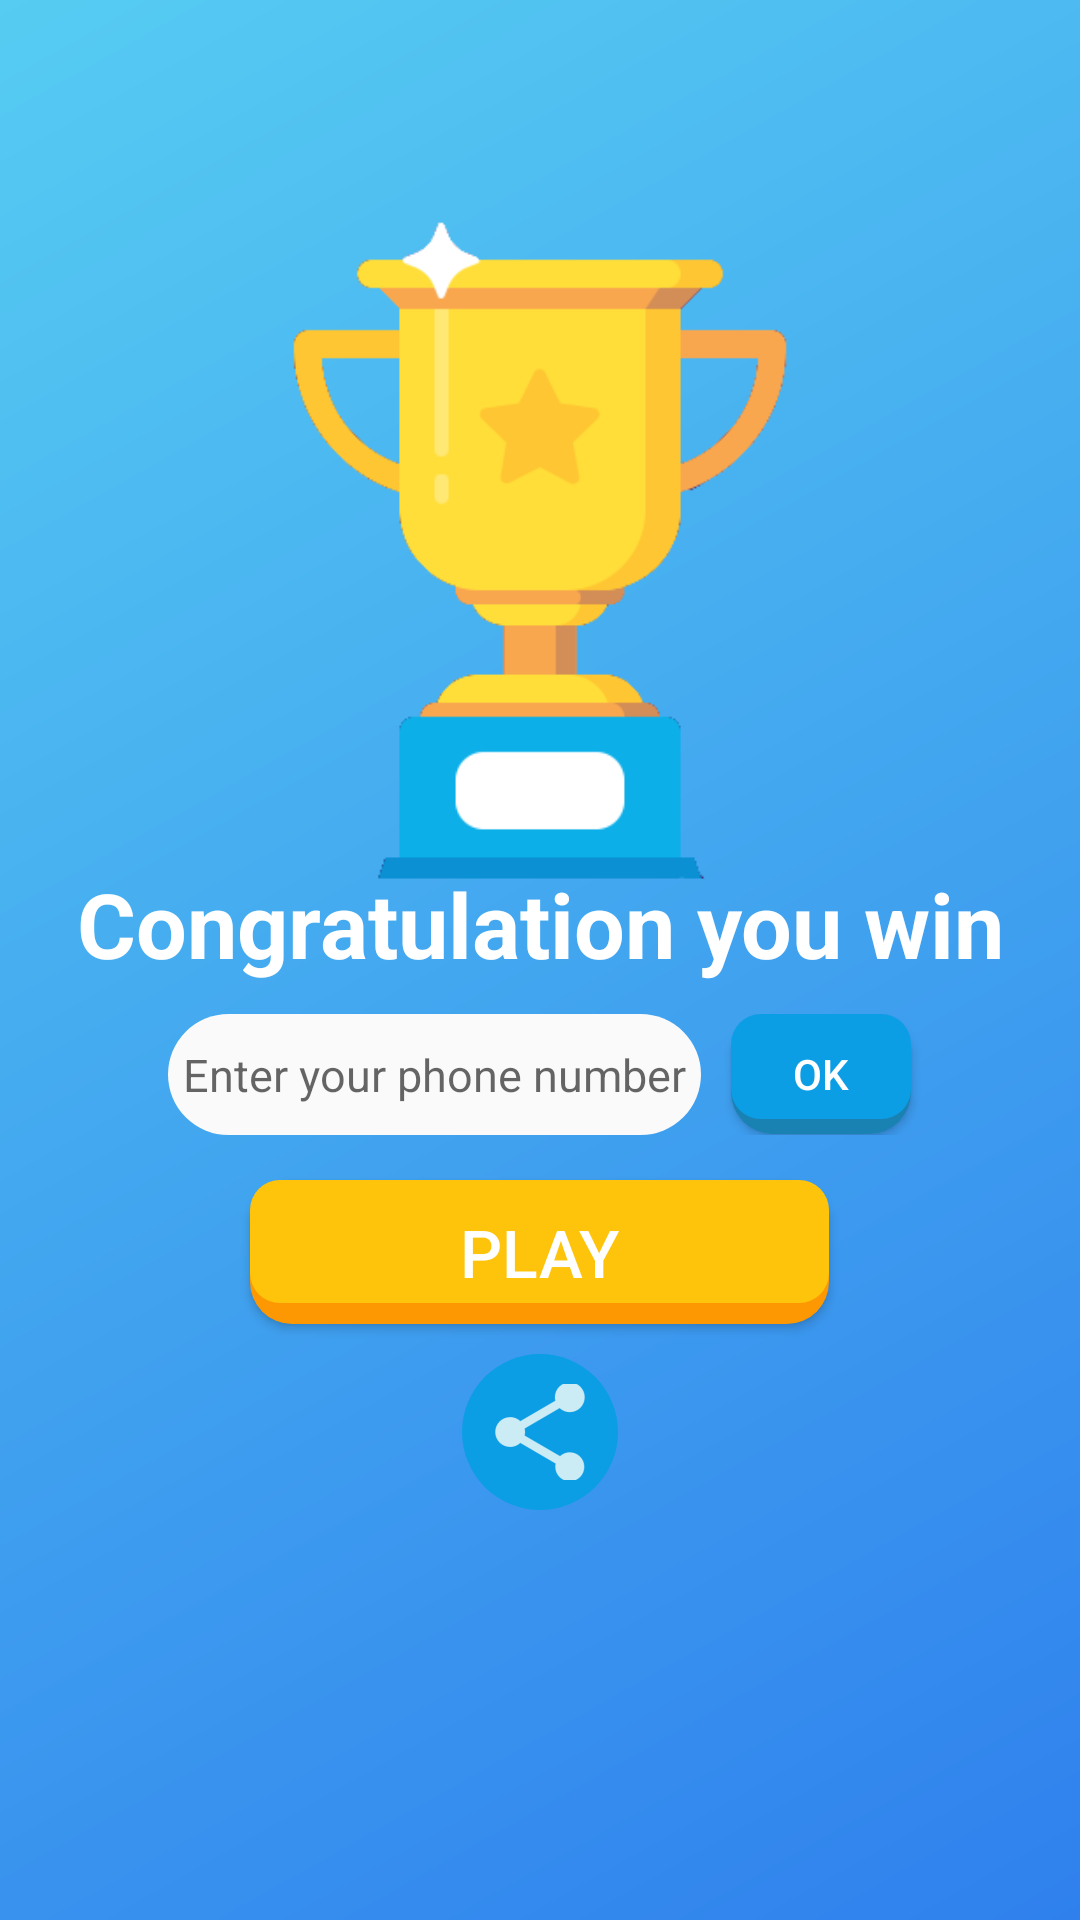

Screen size 1080 x 1920. Icon name, then its center in pixels as (x,y):
share: (540,1432)
